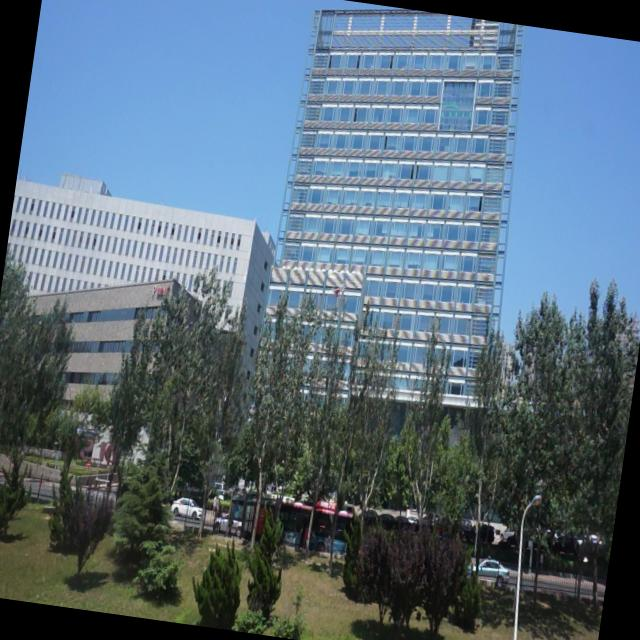drone: (331, 282, 343, 300)
